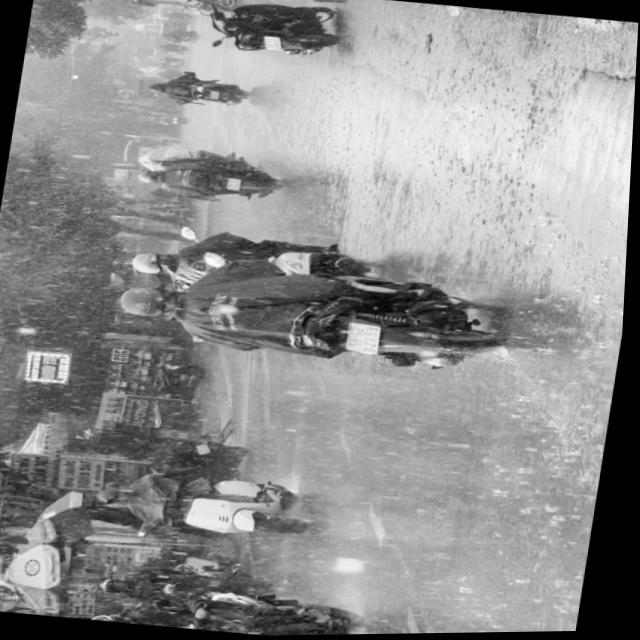helmet: (117, 284, 182, 323), (131, 250, 170, 277), (98, 488, 135, 508), (92, 613, 136, 624)
licenseplate: (108, 231, 520, 391), (91, 459, 313, 552), (87, 573, 364, 639)
nohelmet: (346, 323, 383, 355)
